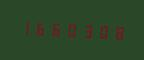eight: (107, 21, 121, 42)
one: (17, 17, 31, 37)
six: (32, 17, 46, 38), (47, 18, 61, 39)
three: (77, 20, 91, 41)
zero: (62, 19, 76, 40), (92, 21, 106, 41)
